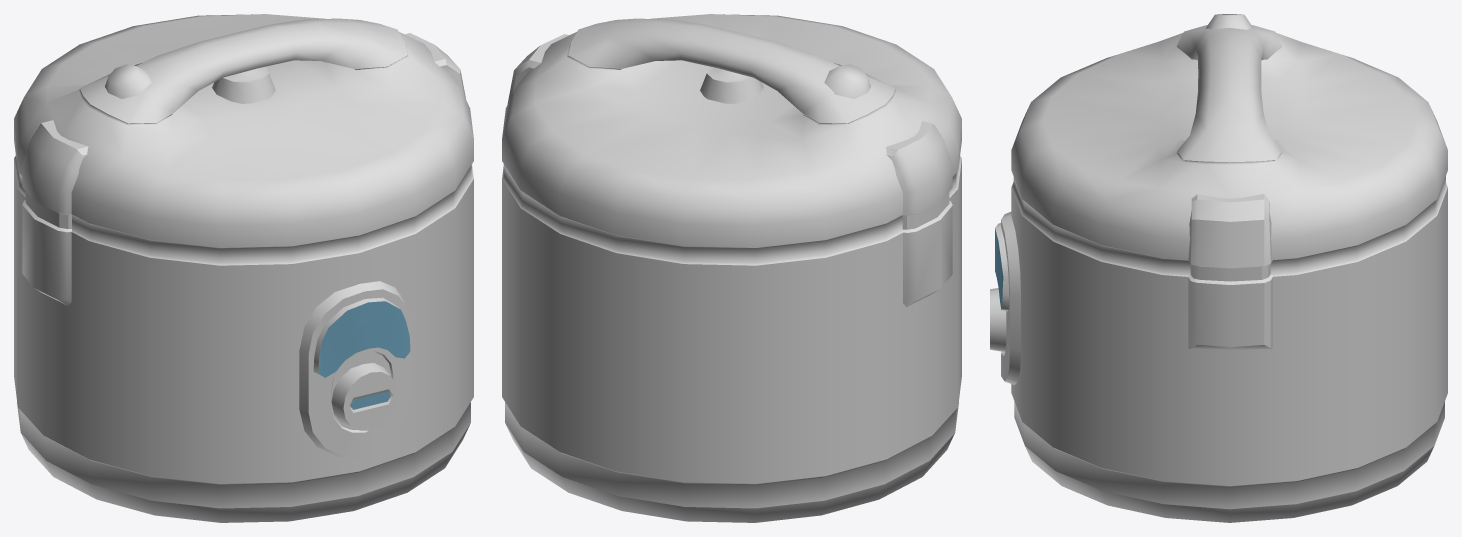
File: CFXB40YA670.FBX
3 views of the same model, side by side, from view 1: azimuth 30°, elevation 25°; view 2: azimuth 150°, elevation 25°; view 3: azimuth 270°, elevation 25° (orthographic). The views are drawn at different scales.
Parts seen in each view (by area): view 1: CFXB40YA670; view 2: CFXB40YA670; view 3: CFXB40YA670.
Boxes of the visible parts, x1=… form: CFXB40YA670: x1=14, y1=14, x2=473, y2=522; CFXB40YA670: x1=502, y1=14, x2=961, y2=522; CFXB40YA670: x1=990, y1=14, x2=1447, y2=522.
Size of the model in its own units: 28.6 by 28.5 by 26.7.
